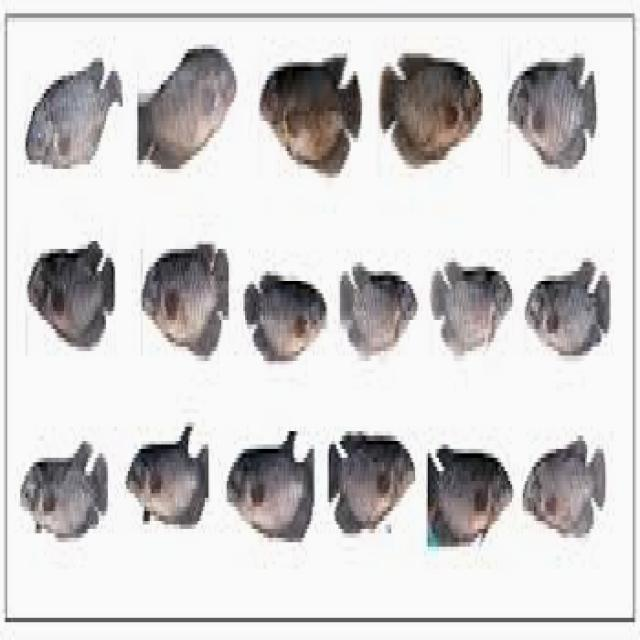ikan: (256, 34, 367, 202), (374, 33, 486, 197), (21, 34, 125, 198), (137, 40, 239, 192), (21, 228, 119, 376), (505, 46, 609, 183), (138, 235, 232, 372), (525, 246, 619, 378), (16, 424, 112, 553), (326, 420, 418, 552), (427, 242, 517, 376), (224, 418, 316, 549), (240, 252, 329, 381), (428, 427, 513, 557), (124, 414, 209, 542), (334, 248, 418, 377), (522, 430, 612, 548)
